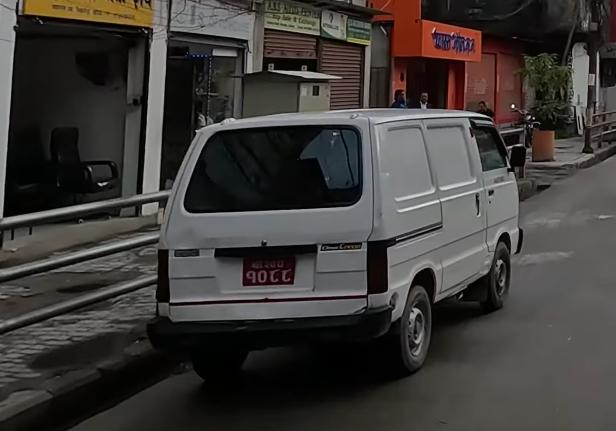van: (151, 102, 531, 388)
